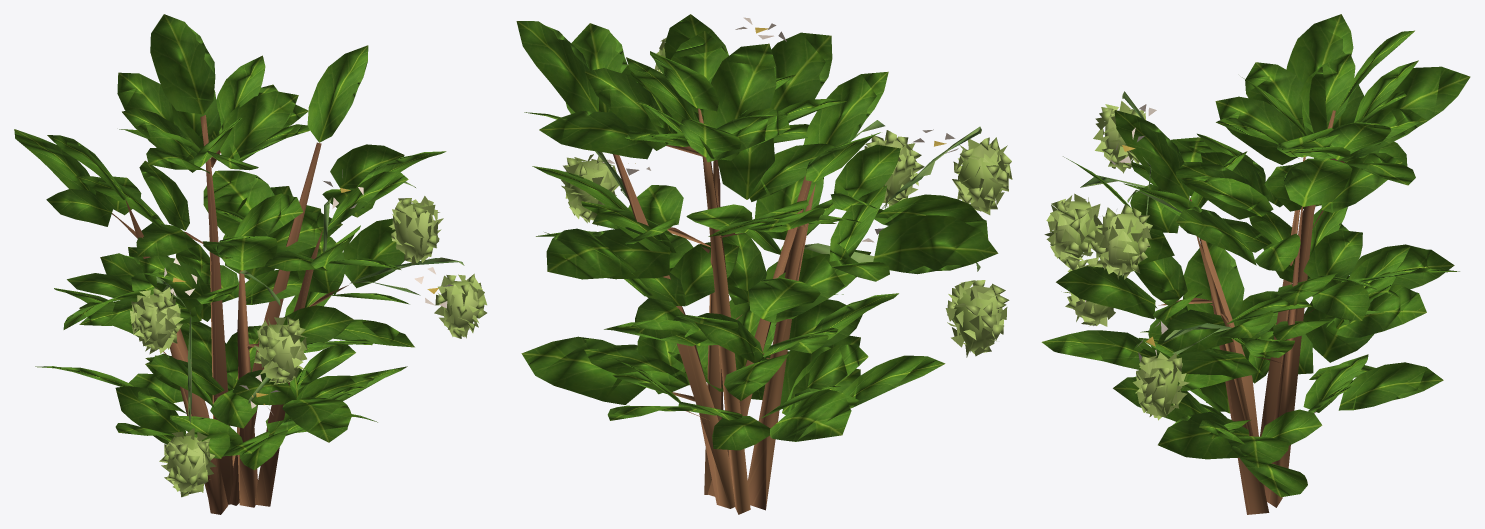
File: NP_Raspberry_Flowering_LOD1.fbx
3 views of the same model, side by side, from view 1: azimuth 30°, elevation 25°; view 2: azimuth 150°, elevation 25°; view 3: azimuth 270°, elevation 25° (orthographic). The views are drawn at different scales.
Parts seen in each view (by area): view 1: NP_Raspberry_Flowering; view 2: NP_Raspberry_Flowering; view 3: NP_Raspberry_Flowering.
Boxes of the visible parts, x1,y1,x2,y2 form: NP_Raspberry_Flowering: [14, 14, 486, 514]; NP_Raspberry_Flowering: [516, 14, 1012, 514]; NP_Raspberry_Flowering: [1041, 14, 1470, 514].
Bounding box in the file's own units: 76.21 × 80.55 × 66.61.
